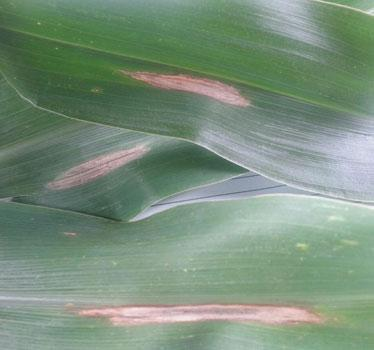Corn_Blight: (57, 294, 344, 337), (100, 44, 272, 115), (31, 139, 166, 199)
